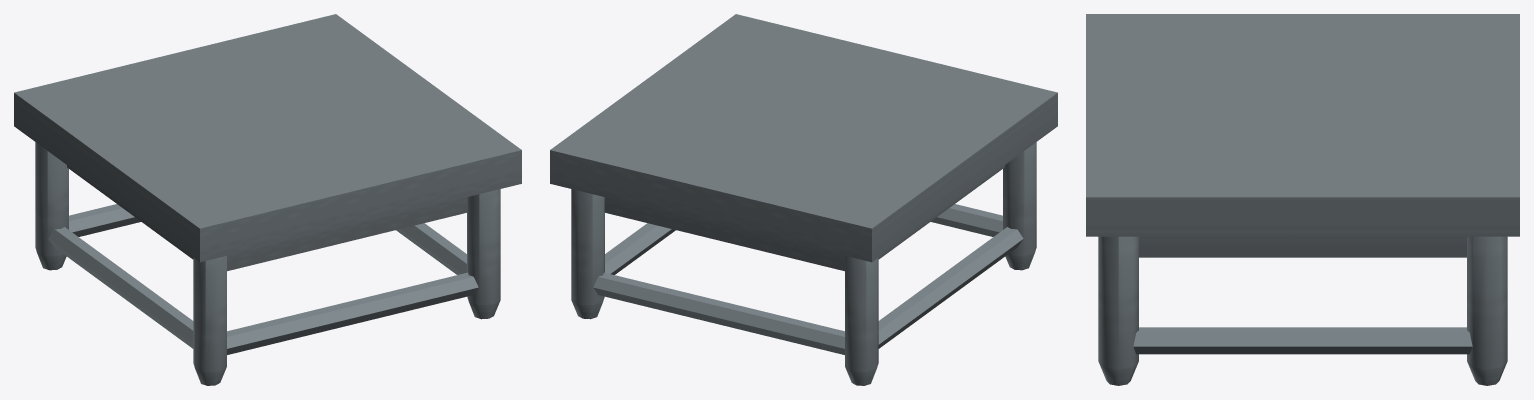
File: kitchentable_A.gltf
The picture shows the model from 3 angles, left to right: view 1: azimuth 30°, elevation 25°; view 2: azimuth 150°, elevation 25°; view 3: azimuth 270°, elevation 25°; orthographic projection. The views are drawn at different scales.
Parts seen in each view (by area): view 1: kitchentable_A; view 2: kitchentable_A; view 3: kitchentable_A.
Boxes of the visible parts, x1,y1,x2,y2 form: kitchentable_A: (14,14,521,385); kitchentable_A: (550,14,1057,385); kitchentable_A: (1086,14,1519,385).
Size of the model in its own units: 2 by 1 by 2.
1 material, 1 textured.
